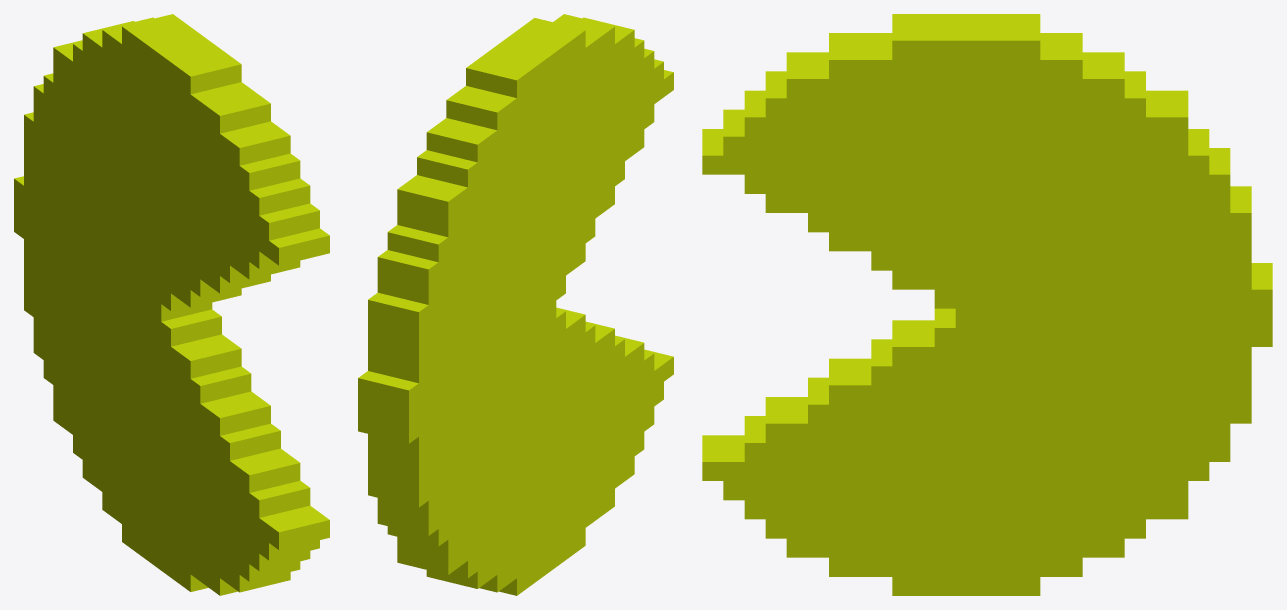
Rendered from pacman.dae.
3 renders of one model, left to right at view 1: azimuth 30°, elevation 25°; view 2: azimuth 150°, elevation 25°; view 3: azimuth 270°, elevation 25°, orthographic. The views are drawn at different scales.
Parts seen in each view (by area): view 1: Circle; view 2: Circle; view 3: Circle.
Part boxes in pixels (x1,y1,x2,y2): Circle: (14, 14, 329, 595); Circle: (358, 14, 673, 595); Circle: (702, 14, 1272, 595).
Size of the model in its own units: 0.2083 by 1.88 by 2.01.
